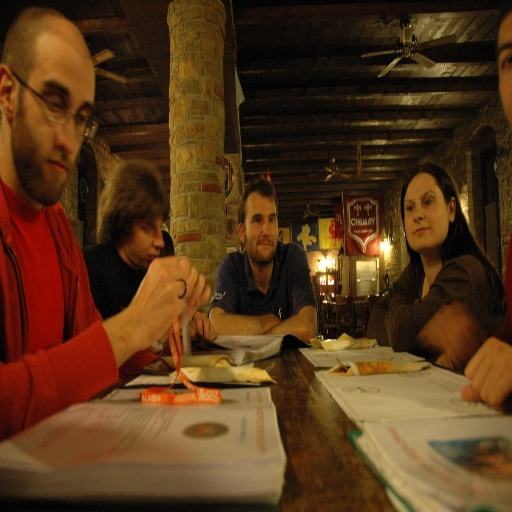hand: (128, 256, 190, 339), (467, 331, 512, 410), (179, 256, 210, 330), (189, 308, 214, 339), (435, 352, 452, 369)
